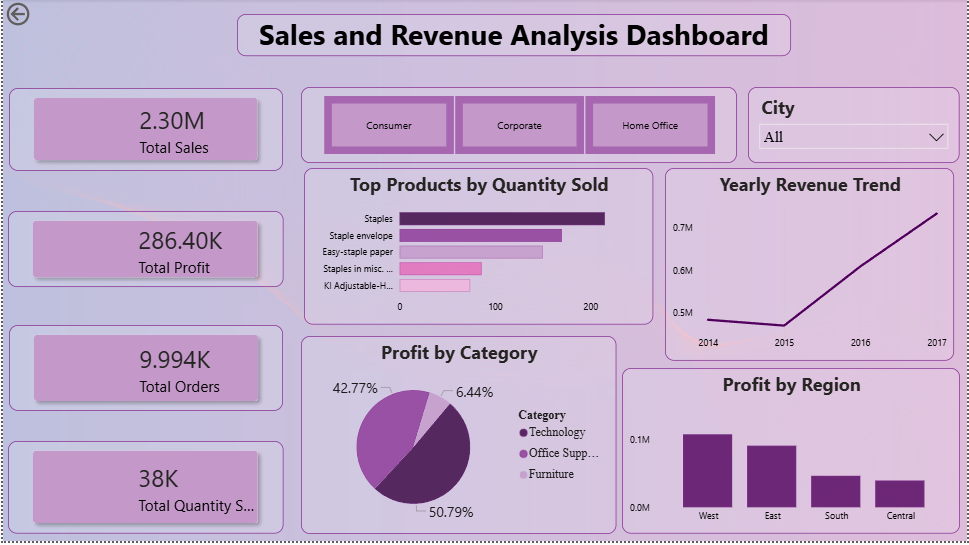

Layout of this report page (visuals, bound fields, positions):
{"tool":"powerbi","page":{"name":"Page 1","canvas":[1280,720],"ordinal":0},"visuals":[{"type":"textbox","box":[311.4,20,735.7,55.7],"z":0},{"type":"clusteredColumnChart","title":"Profit by Region","fields":{"Y":["Sum(Sample Dataset.Profit)"],"Category":["Sample Dataset.Region"]},"box":[822.9,490,448.6,220],"z":1000},{"type":"pieChart","fields":{"Category":["Sample Dataset.Category"],"Y":["Sum(Sample Dataset.Profit)"]},"box":[395.7,447.1,418.6,262.9],"z":2000},{"type":"clusteredBarChart","title":"Top Products by Quantity Sold","fields":{"Y":["Sum(Sample Dataset.Quantity)"],"Category":["Sample Dataset.Product Name"]},"box":[400,224,464,208],"z":3000},{"type":"actionButton","box":[0,0,100,40],"z":4000},{"type":"cardVisual","fields":{"Data":["Sum(Sample Dataset.Sum of sales)"]},"box":[7.9,117.8,363.9,110],"z":5000},{"type":"cardVisual","fields":{"Data":["Sum(Sample Dataset.Profit)"]},"box":[7.1,281.4,365.7,101.4],"z":6000},{"type":"cardVisual","fields":{"Data":["CountNonNull(Sample Dataset.Order ID)"]},"box":[8.6,432.9,364.3,114.3],"z":7000},{"type":"cardVisual","fields":{"Data":["Sum(Sample Dataset.Quantity)"]},"box":[7.1,587.1,365.7,122.9],"z":8000},{"type":"slicer","fields":{"Values":["Sample Dataset.Segment"]},"box":[395.7,117.1,578.6,101.4],"z":9000},{"type":"slicer","fields":{"Values":["Sample Dataset.City"]},"box":[990,117.1,281.4,101.4],"z":10000},{"type":"lineChart","title":"Yearly Revenue Trend","fields":{"Y":["Sum(Sample Dataset.Sum of sales)"],"Category":["Sample Dataset.Order Date.Variation.Date Hierarchy.Year","Sample Dataset.Order Date.Variation.Date Hierarchy.Month"]},"box":[880,224,384,256],"z":11000}]}

Visuals, with their boxes in screenshot pixels (x1, y1, x2, y2), scaled from the page's 1280x720 canvas onto the 969x545 screenshot:
textbox: [x1=236, y1=15, x2=793, y2=57]
"Profit by Region" clusteredColumnChart: [x1=623, y1=371, x2=963, y2=537]
pieChart - Sample Dataset.Category x Sum(Sample Dataset.Profit): [x1=300, y1=338, x2=616, y2=537]
"Top Products by Quantity Sold" clusteredBarChart: [x1=303, y1=170, x2=654, y2=327]
actionButton: [x1=0, y1=0, x2=76, y2=30]
cardVisual - Sum(Sample Dataset.Sum of sales): [x1=6, y1=89, x2=281, y2=172]
cardVisual - Sum(Sample Dataset.Profit): [x1=5, y1=213, x2=282, y2=290]
cardVisual - CountNonNull(Sample Dataset.Order ID): [x1=7, y1=328, x2=282, y2=414]
cardVisual - Sum(Sample Dataset.Quantity): [x1=5, y1=444, x2=282, y2=537]
slicer - Sample Dataset.Segment: [x1=300, y1=89, x2=738, y2=165]
slicer - Sample Dataset.City: [x1=749, y1=89, x2=962, y2=165]
"Yearly Revenue Trend" lineChart: [x1=666, y1=170, x2=957, y2=363]
